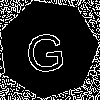G: (23, 24, 67, 73)
